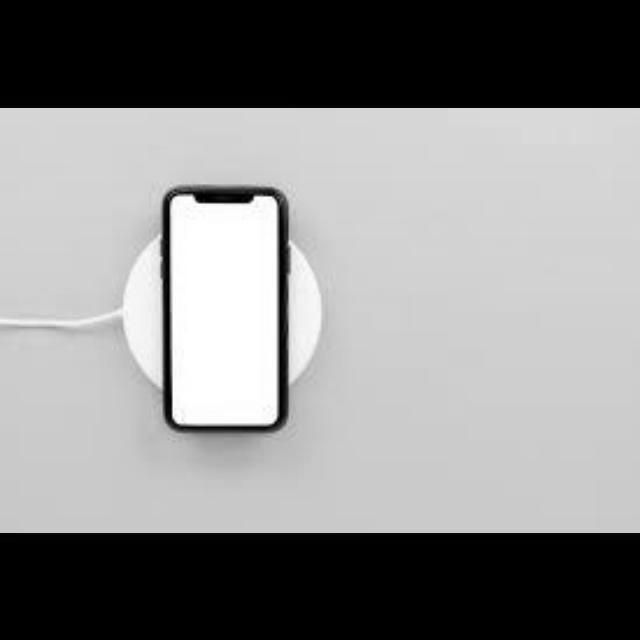fake: (166, 186, 286, 434)
